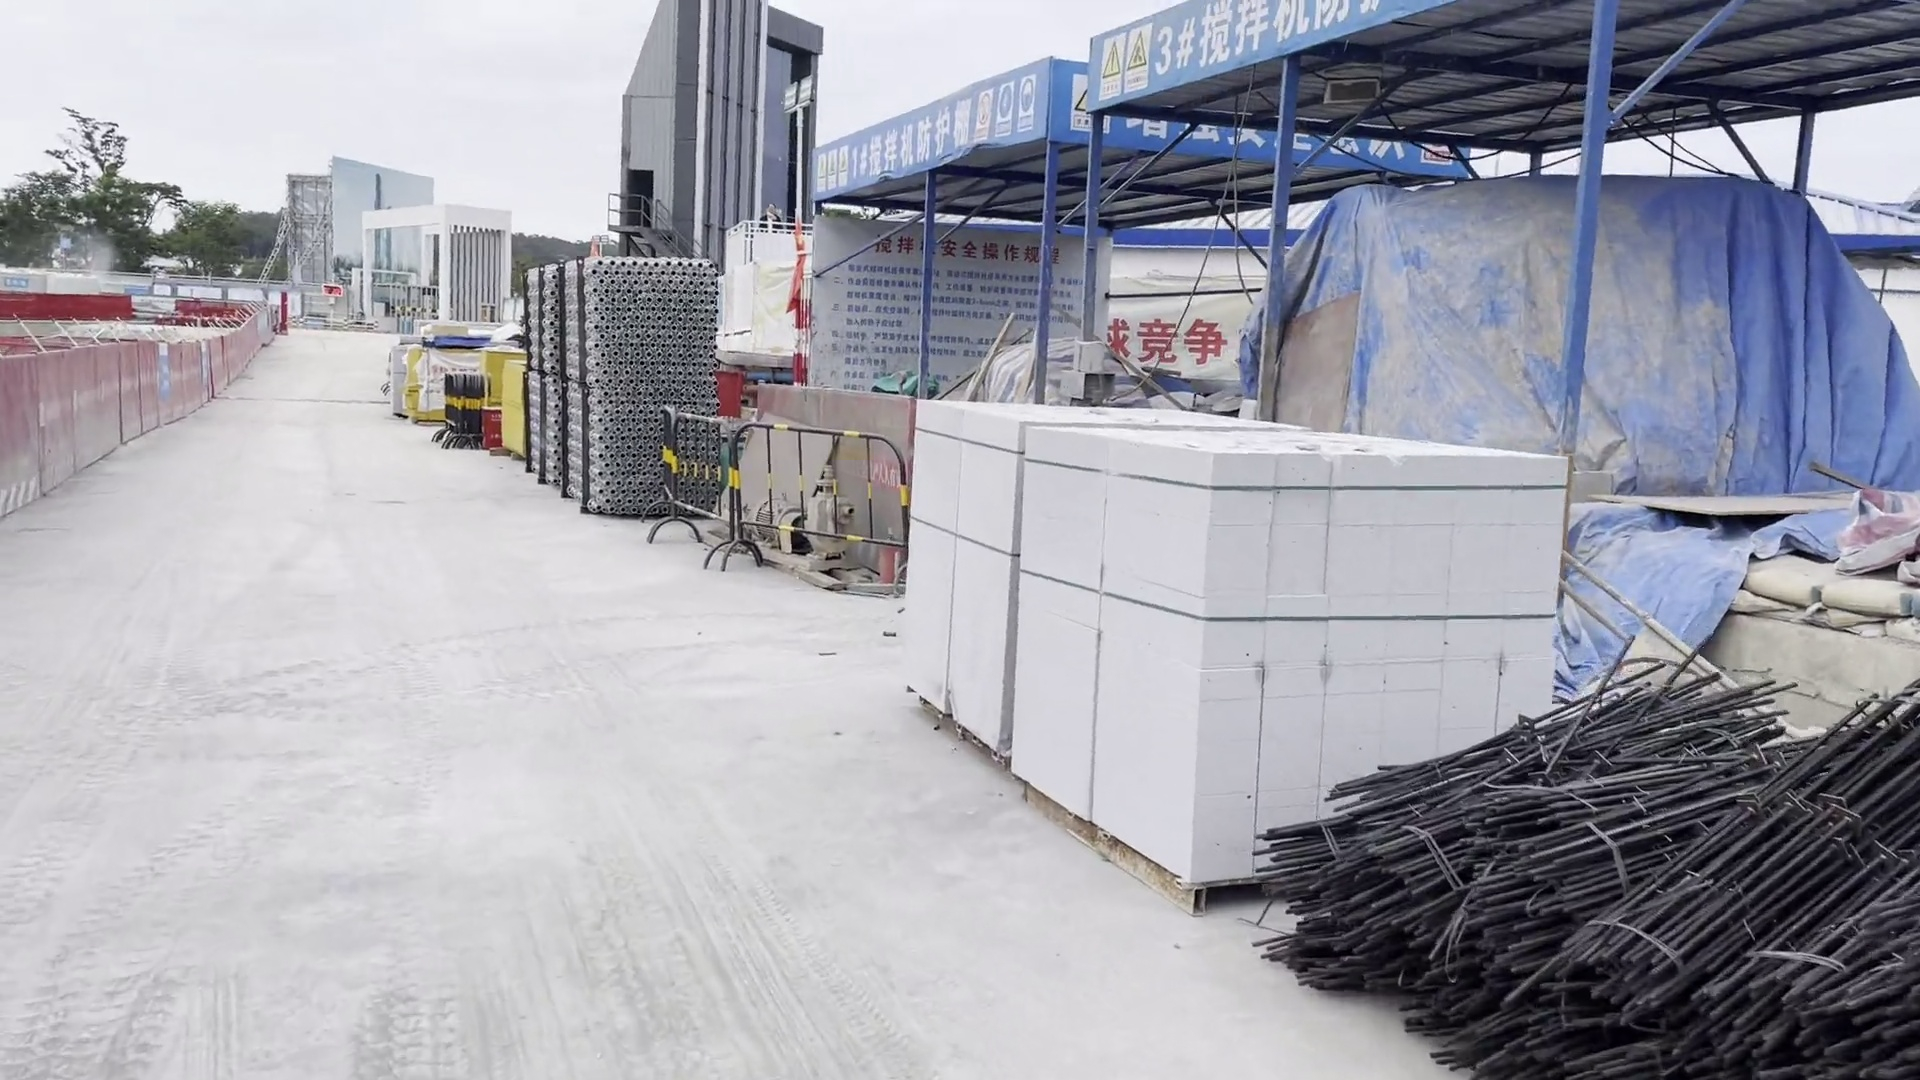brick: (851, 316, 1582, 898)
fence: (1, 301, 266, 509), (1, 290, 258, 324)
scaffold: (518, 255, 728, 517)
